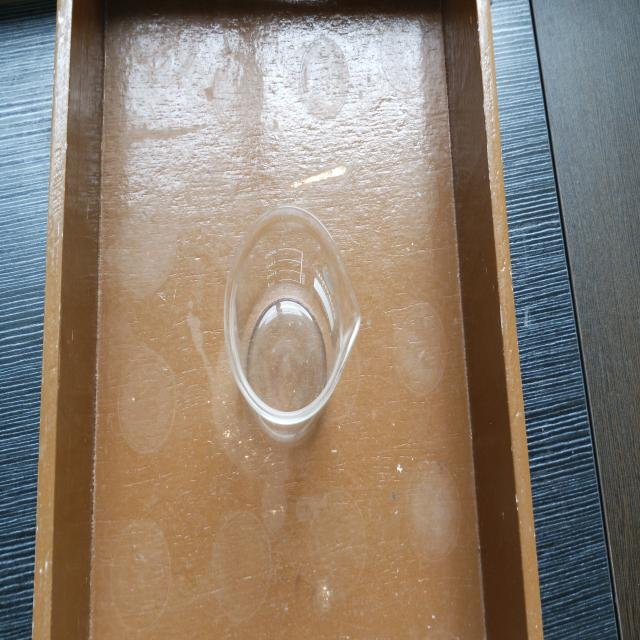beaker: (220, 191, 364, 451)
